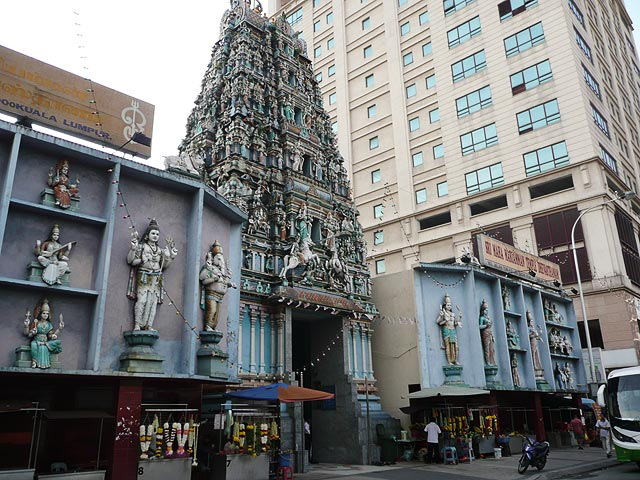Hindu Temple: (187, 3, 380, 414)
